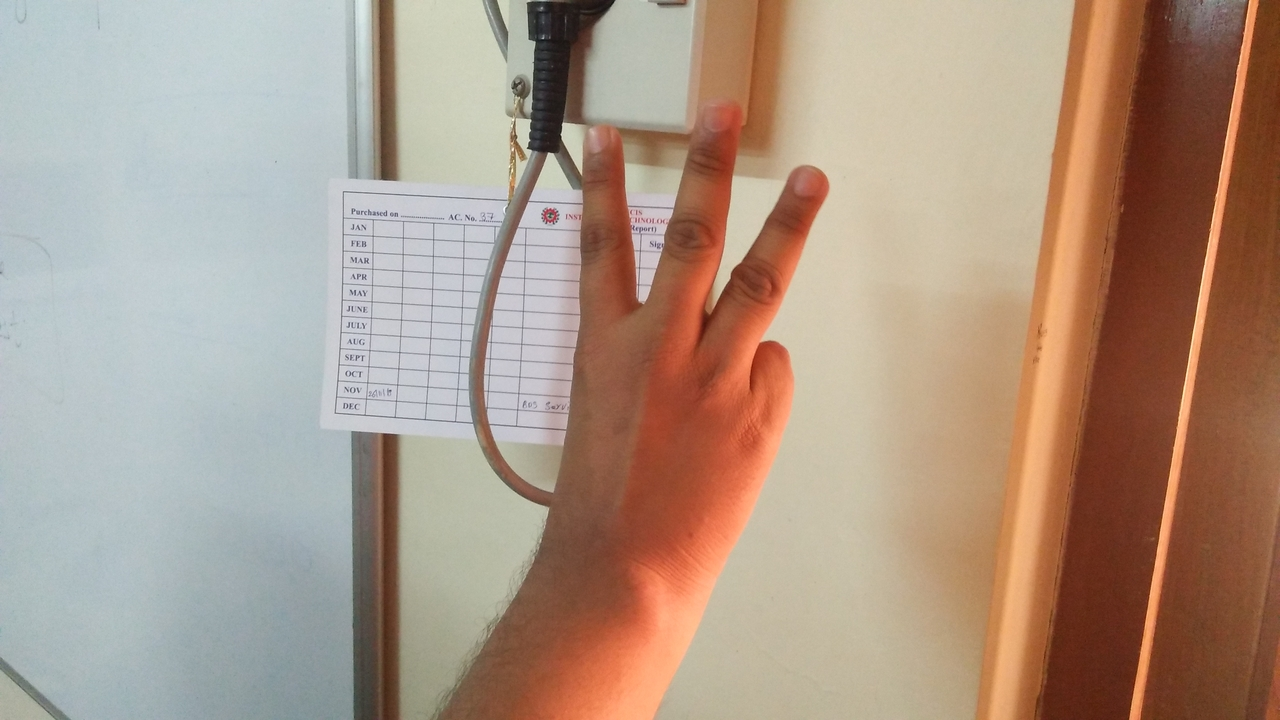fingertip: (776, 154, 838, 210), (688, 90, 754, 140), (574, 112, 632, 162)
